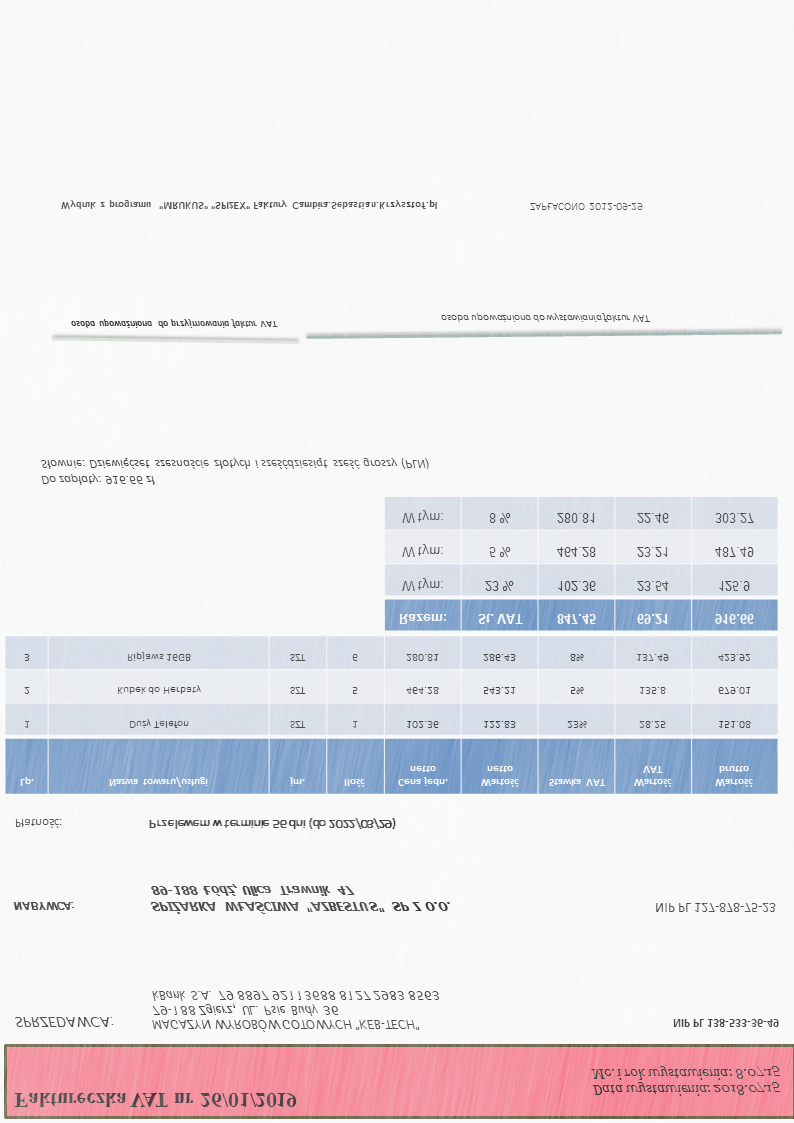Table: (3, 635, 780, 795), (384, 495, 779, 632)
TextBox: (148, 986, 441, 1033), (38, 455, 431, 487), (148, 882, 454, 918), (58, 196, 440, 215), (589, 1063, 782, 1099), (12, 1089, 299, 1113), (146, 815, 396, 832), (436, 311, 652, 327), (68, 316, 280, 332), (650, 899, 775, 918), (669, 1015, 781, 1032), (527, 199, 644, 215), (11, 1013, 114, 1031), (10, 898, 74, 915), (12, 815, 65, 832)
